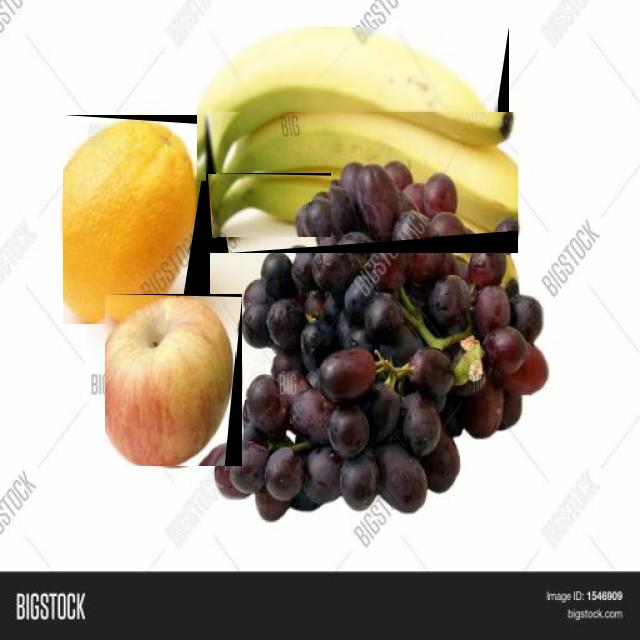Apple: (106, 295, 236, 466)
Banana: (197, 28, 498, 172), (218, 113, 518, 238), (211, 176, 331, 237)
Orange: (63, 120, 198, 324)
